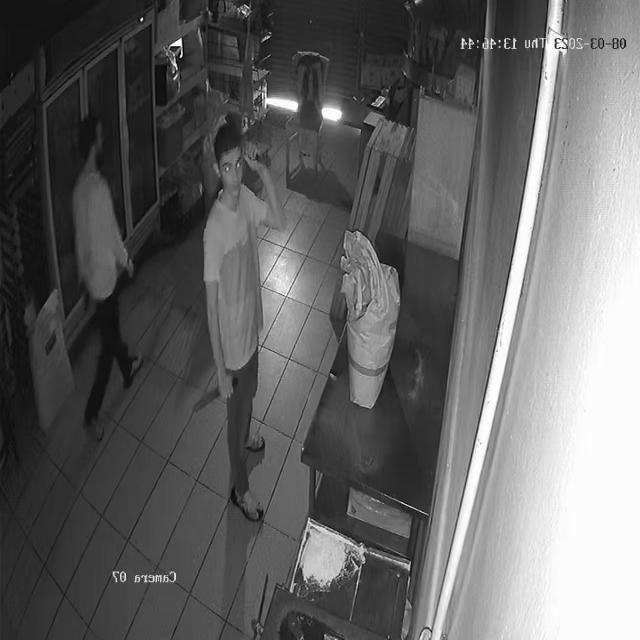Knife: (194, 370, 245, 422)
